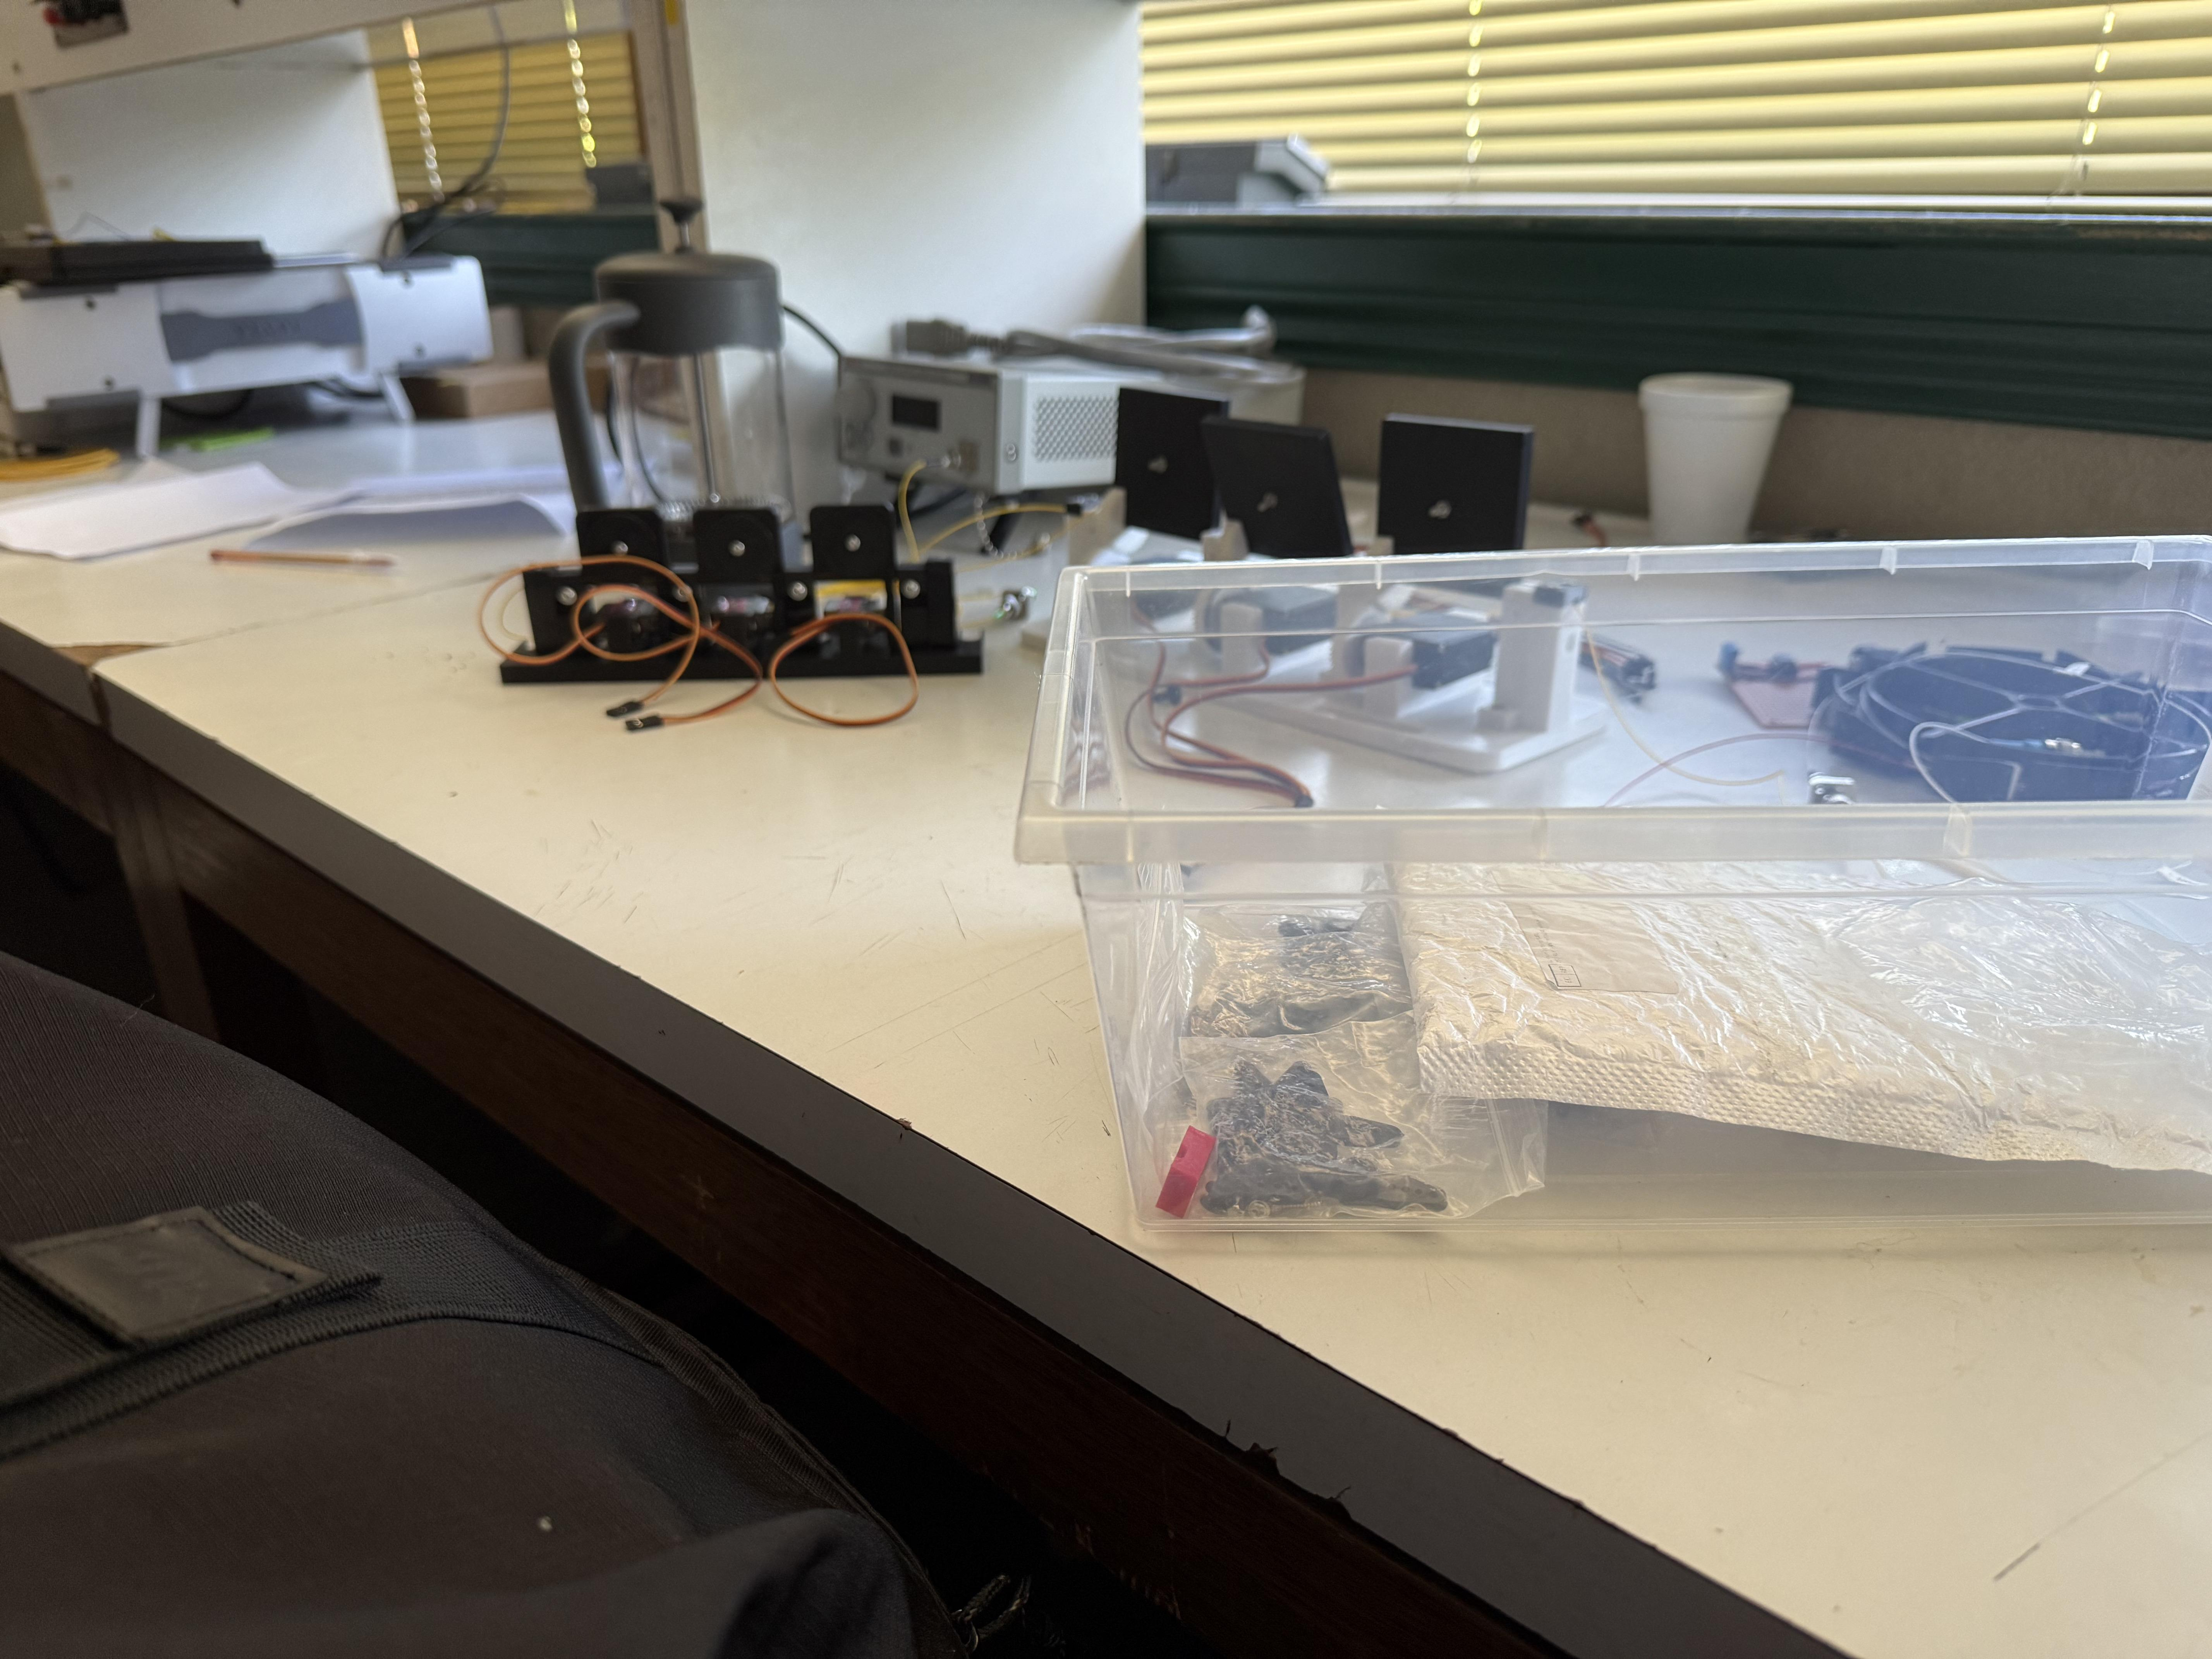paddle_polarization_controller: (1007, 371, 1677, 809), (479, 488, 1042, 704)
